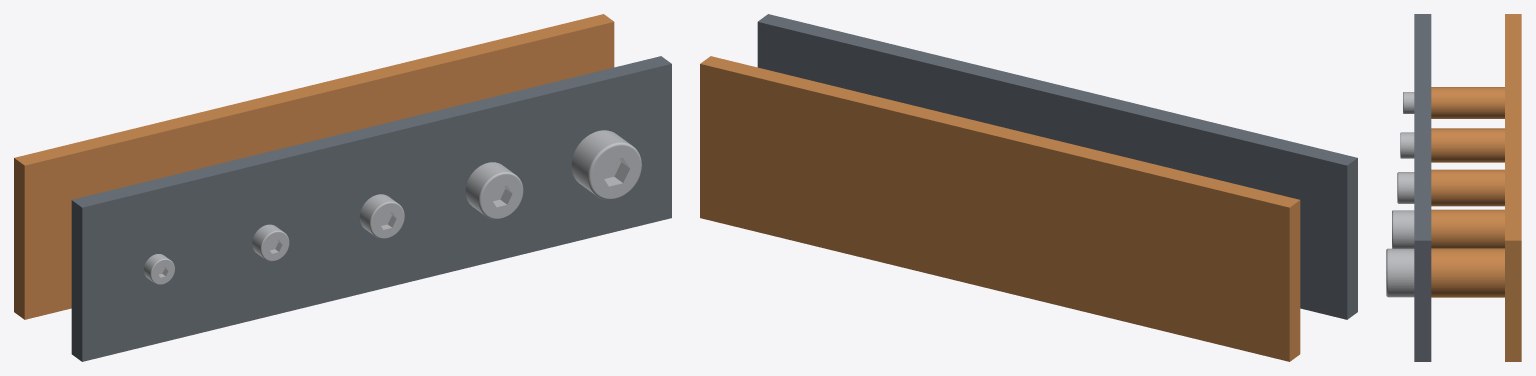
3 renders of one model, left to right at view 1: azimuth 30°, elevation 25°; view 2: azimuth 150°, elevation 25°; view 3: azimuth 270°, elevation 25°, orthographic. The views are drawn at different scales.
Visible parts, largest first — view 1: couvercle, socle, vis_M5, vis_M4, vis_M3, vis_M2_5, vis_M2; view 2: socle, couvercle; view 3: socle, couvercle, vis_M5, vis_M4, vis_M3, vis_M2_5, vis_M2.
Part boxes in pixels (x1,y1,x2,y2): couvercle: [71, 56, 671, 361]; socle: [14, 14, 614, 319]; vis_M5: [571, 130, 641, 199]; vis_M4: [465, 162, 523, 219]; vis_M3: [359, 194, 404, 238]; vis_M2_5: [252, 224, 289, 261]; vis_M2: [144, 254, 174, 284]; socle: [700, 56, 1300, 361]; couvercle: [757, 14, 1357, 319]; socle: [1431, 14, 1521, 361]; couvercle: [1414, 14, 1431, 361]; vis_M5: [1386, 248, 1414, 297]; vis_M4: [1392, 210, 1414, 248]; vis_M3: [1397, 172, 1414, 203]; vis_M2_5: [1400, 132, 1414, 158]; vis_M2: [1403, 92, 1414, 113].
Size of the model in its own units: 96 by 24 by 24.25.
